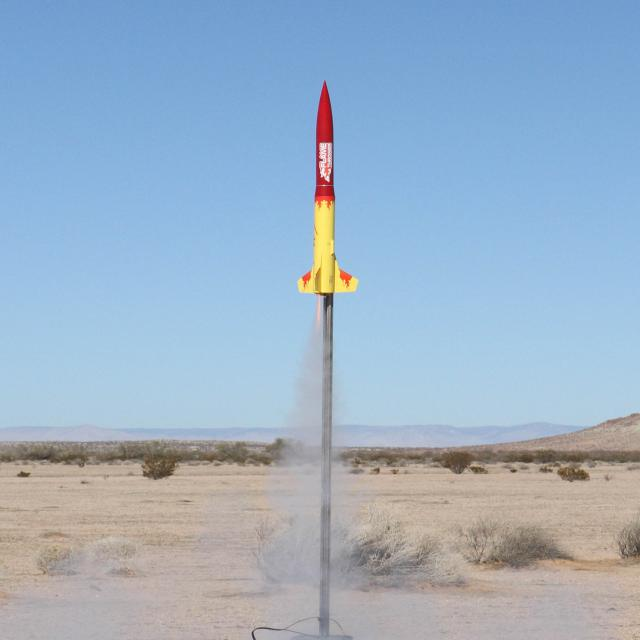Rocket: (296, 79, 361, 295)
